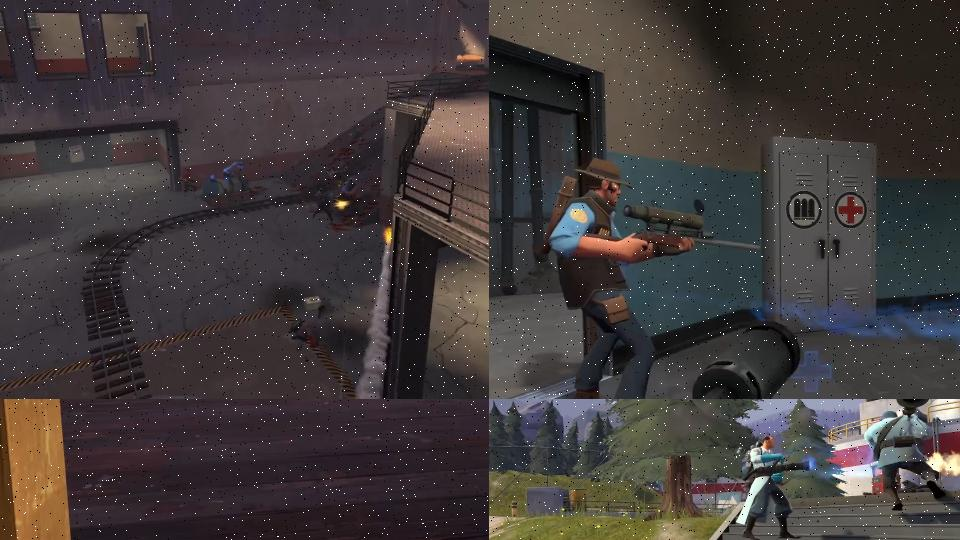Enemy: (536, 152, 761, 399), (862, 399, 954, 518), (735, 433, 818, 540), (334, 178, 368, 218), (311, 185, 334, 222), (177, 167, 199, 195)
